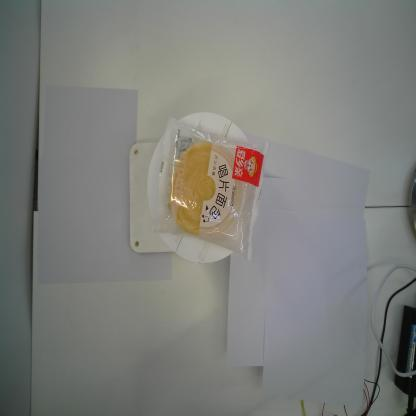Dessert: (149, 114, 270, 262)
